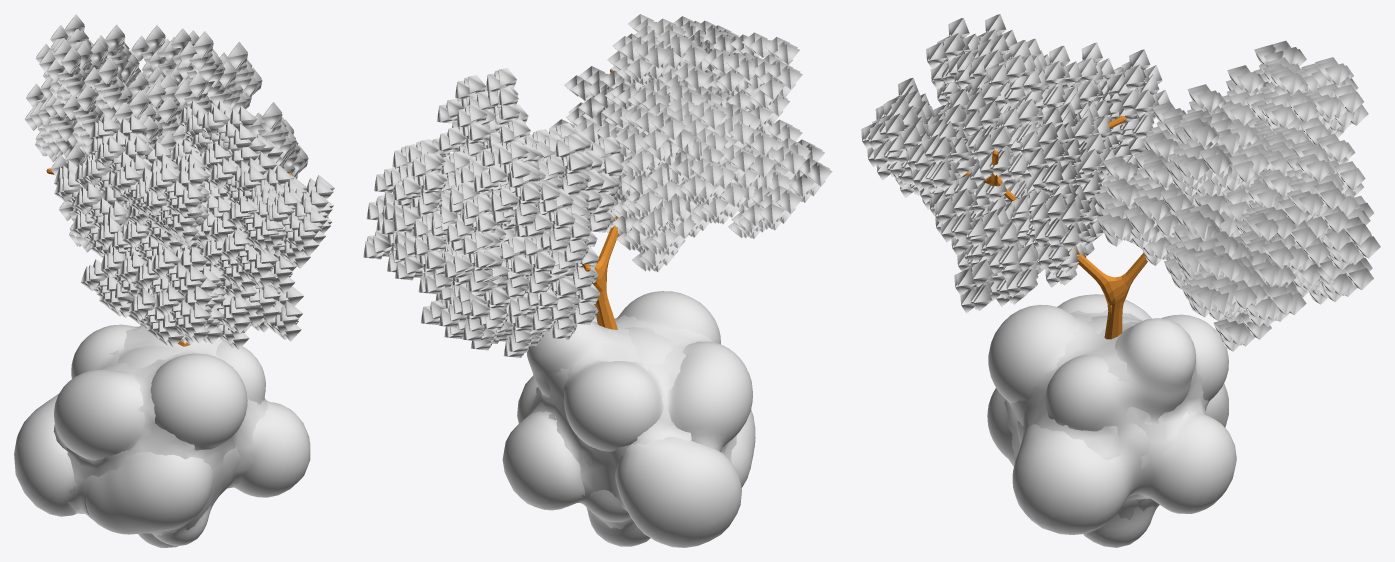
File: tree.fbx
The picture shows the model from 3 angles, left to right: view 1: azimuth 30°, elevation 25°; view 2: azimuth 150°, elevation 25°; view 3: azimuth 270°, elevation 25°; orthographic projection. The views are drawn at different scales.
Visible parts, largest first — view 1: feuillage, particule, feuillage.001, custom normals; view 2: feuillage.001, feuillage, particule, custom normals, Vert; view 3: feuillage.001, feuillage, particule, custom normals, Vert.
Boxes of the visible parts, <box> form: feuillage: <box>54,100,334,349</box>; particule: <box>14,324,310,547</box>; feuillage.001: <box>25,14,308,252</box>; custom normals: <box>66,325,268,535</box>; feuillage.001: <box>363,68,623,357</box>; feuillage: <box>549,14,832,272</box>; particule: <box>502,291,755,547</box>; custom normals: <box>527,315,736,528</box>; Vert: <box>582,69,618,329</box>; feuillage.001: <box>1094,40,1380,351</box>; feuillage: <box>861,14,1169,313</box>; particule: <box>987,294,1236,547</box>; custom normals: <box>1004,309,1208,519</box>; Vert: <box>962,116,1147,339</box>.
Size of the model in its own units: 709 by 1020 by 948.
